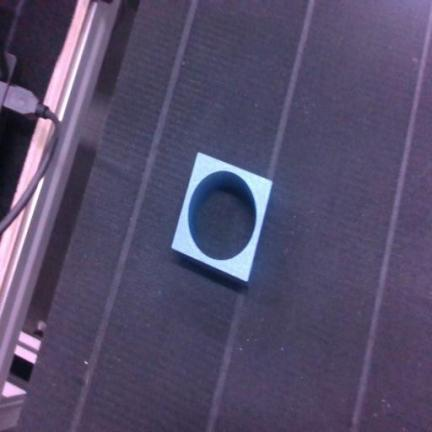hole: (173, 153, 272, 281)
